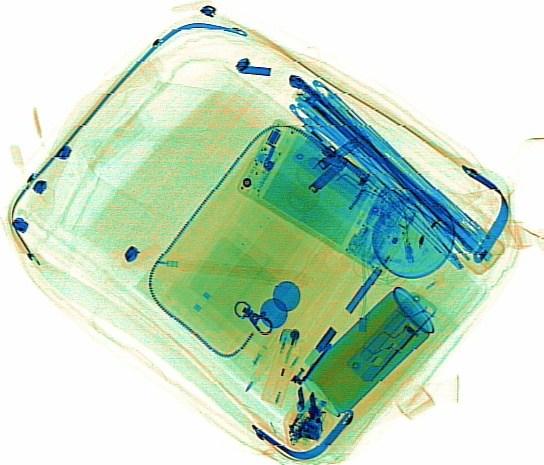lighter: (257, 326, 307, 408)
